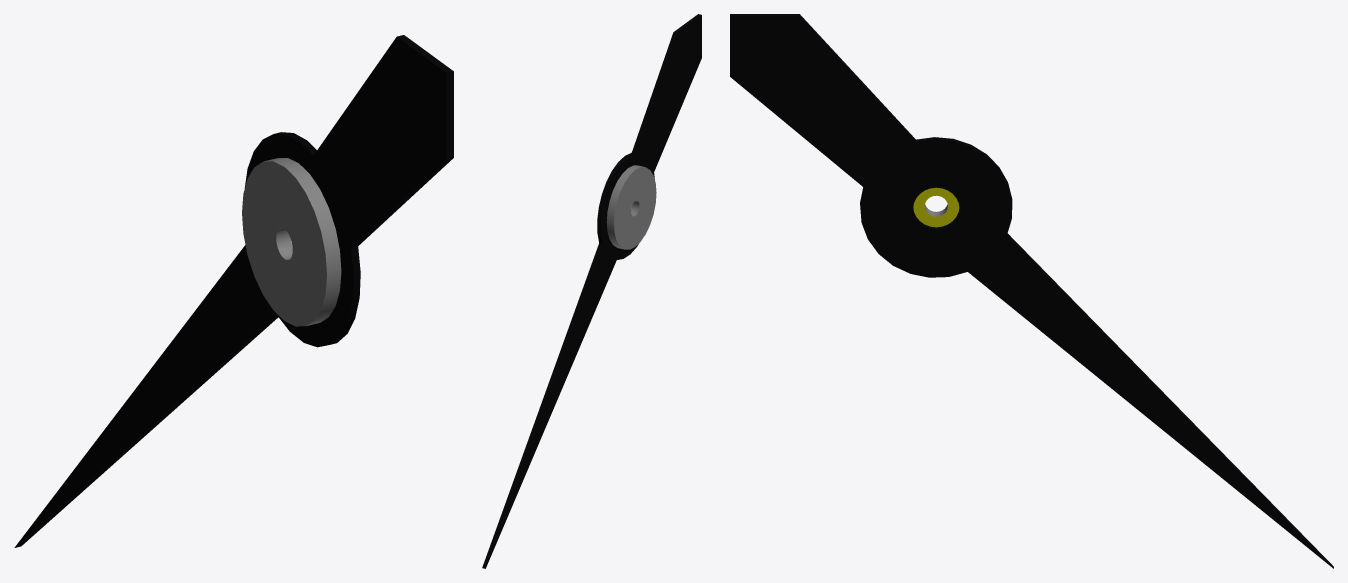
The model's file is Kato.FBX.
The picture shows the model from 3 angles, left to right: view 1: azimuth 30°, elevation 25°; view 2: azimuth 150°, elevation 25°; view 3: azimuth 270°, elevation 25°; orthographic projection. The views are drawn at different scales.
Parts seen in each view (by area): view 1: VIFS262; view 2: VIFS262; view 3: VIFS262.
Part boxes in pixels (x1=…): VIFS262: x1=14, y1=35, x2=453, y2=547; VIFS262: x1=482, y1=14, x2=701, y2=568; VIFS262: x1=730, y1=14, x2=1333, y2=568.
Size of the model in its own units: 0.00125 by 0.0438 by 0.0434.
